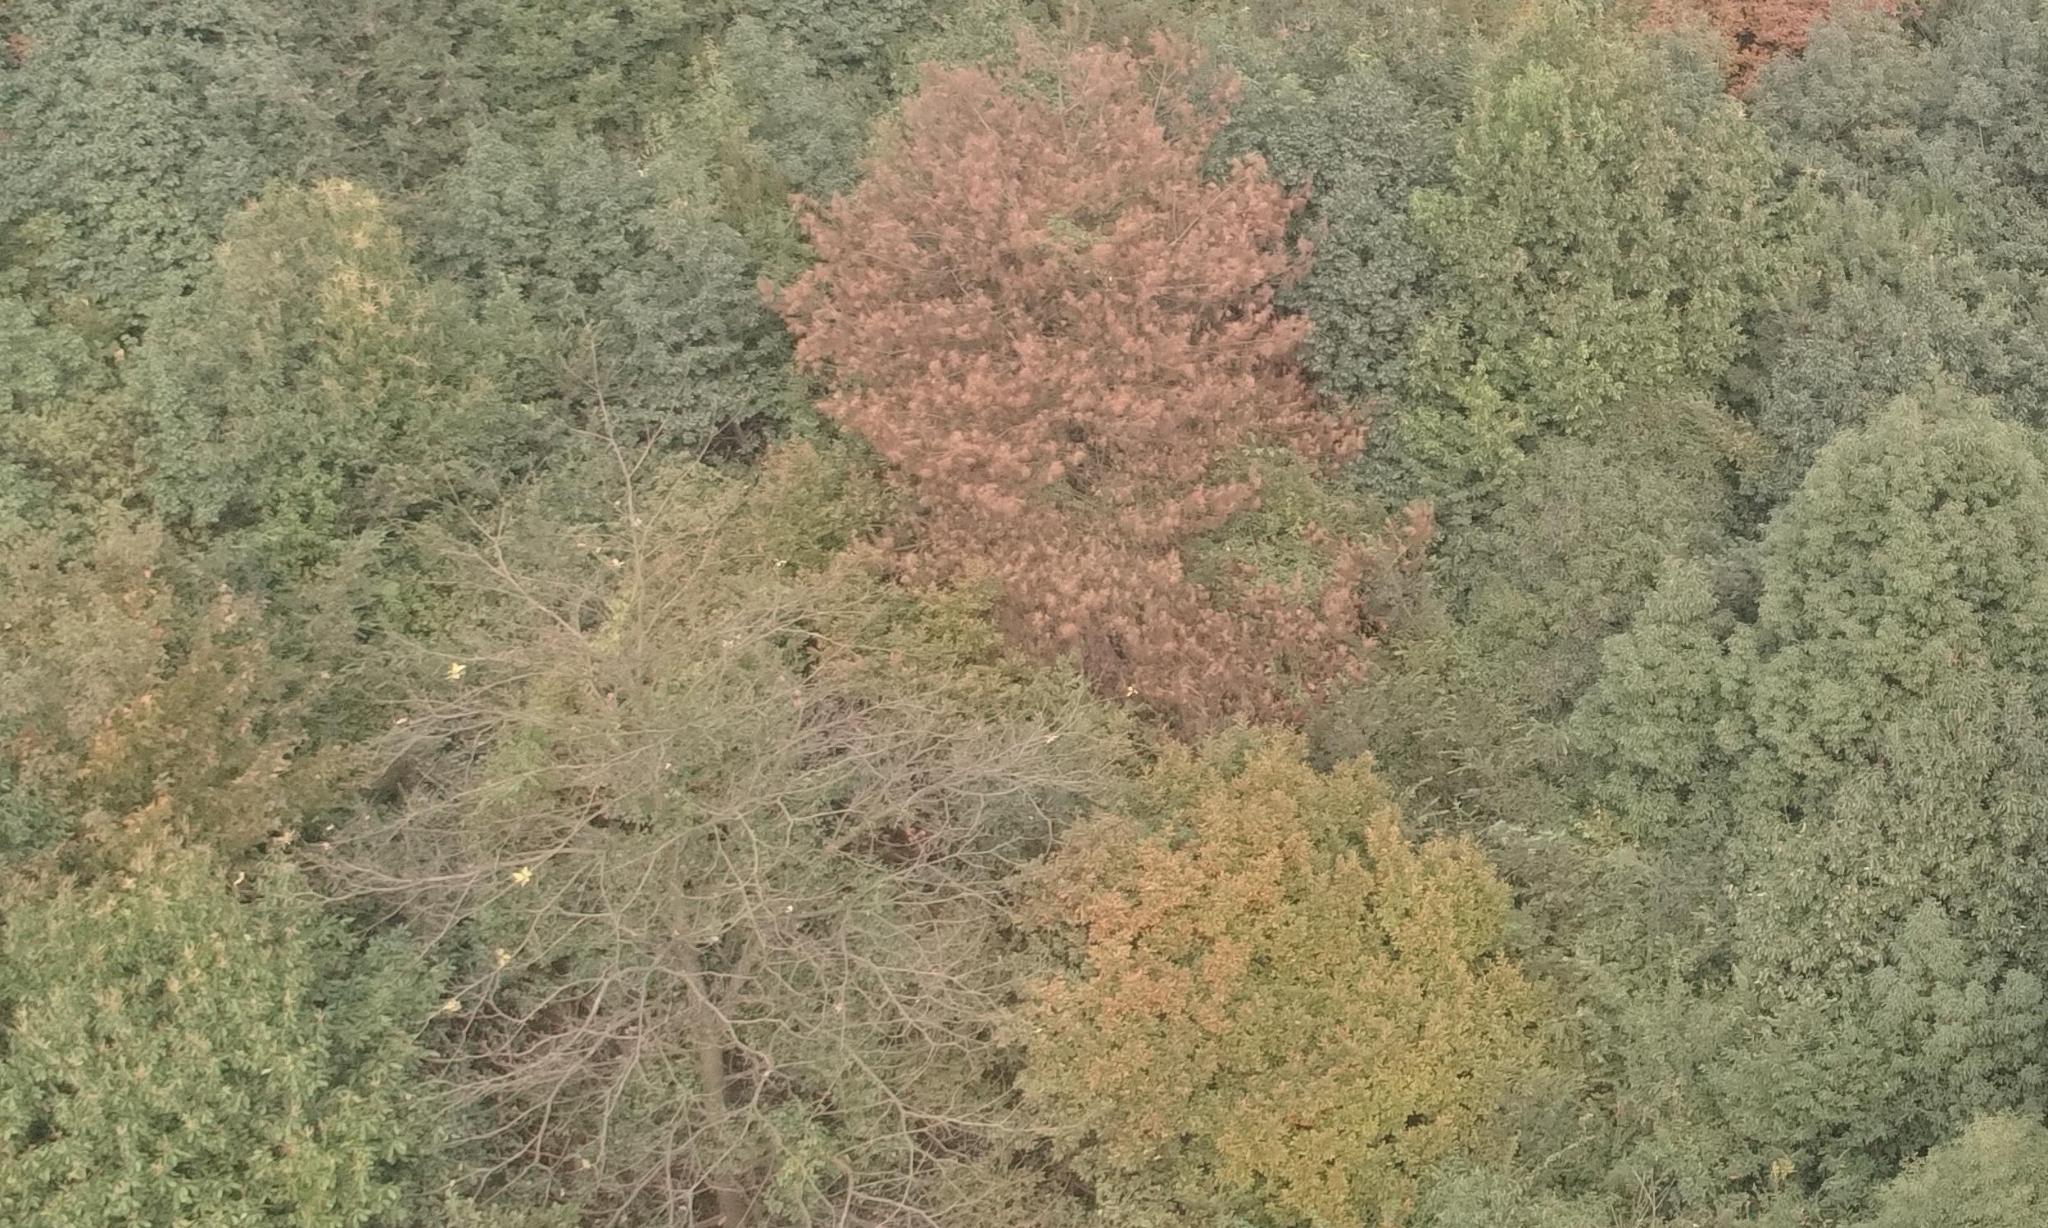dead: (342, 754, 984, 1212)
heavy: (767, 50, 1368, 715)
